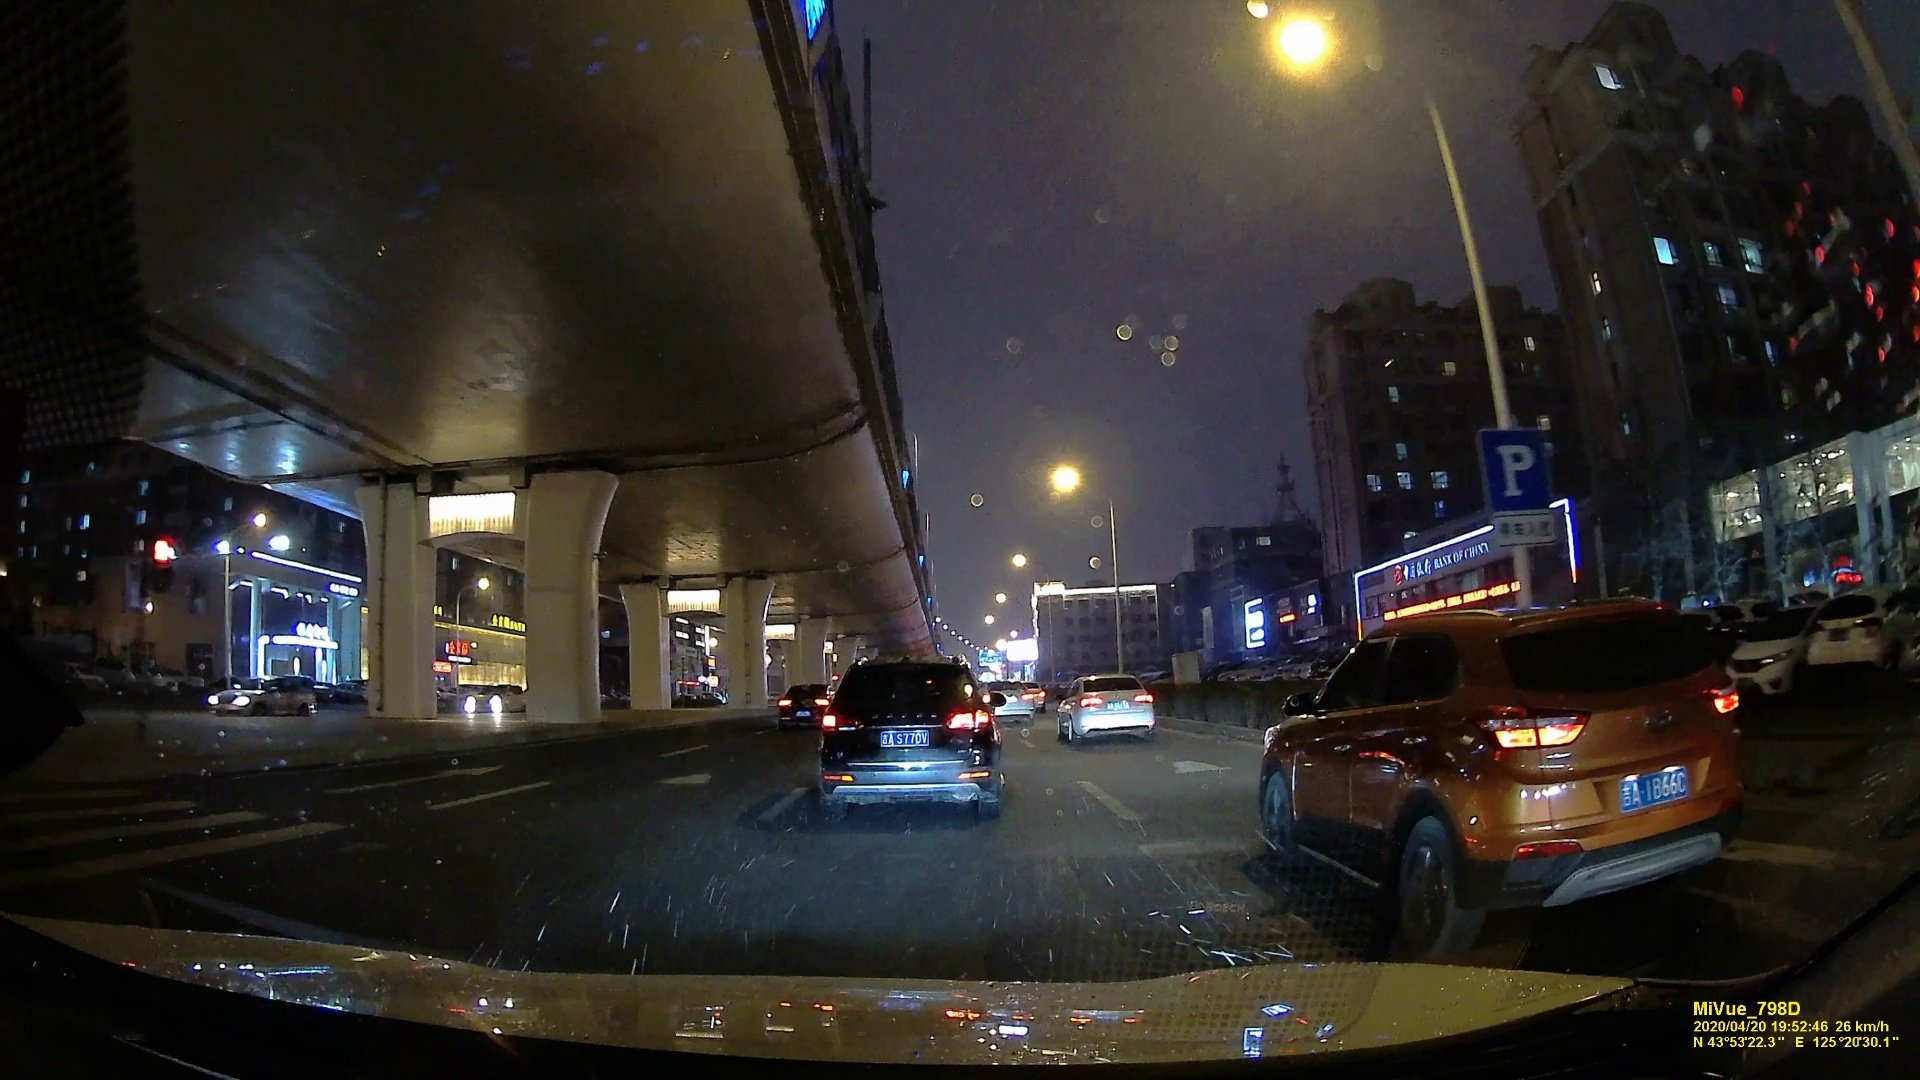traffic_sign: (1487, 433, 1549, 545)
vehicle: (1253, 596, 1759, 948), (814, 651, 1007, 823), (1058, 670, 1156, 744), (204, 673, 319, 717), (774, 684, 827, 727), (465, 680, 524, 715)
